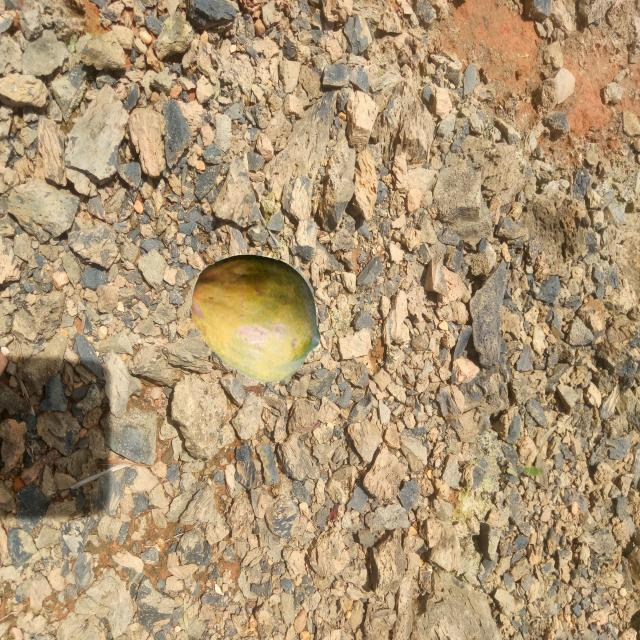Pepaya rippen: (174, 253, 320, 380)
